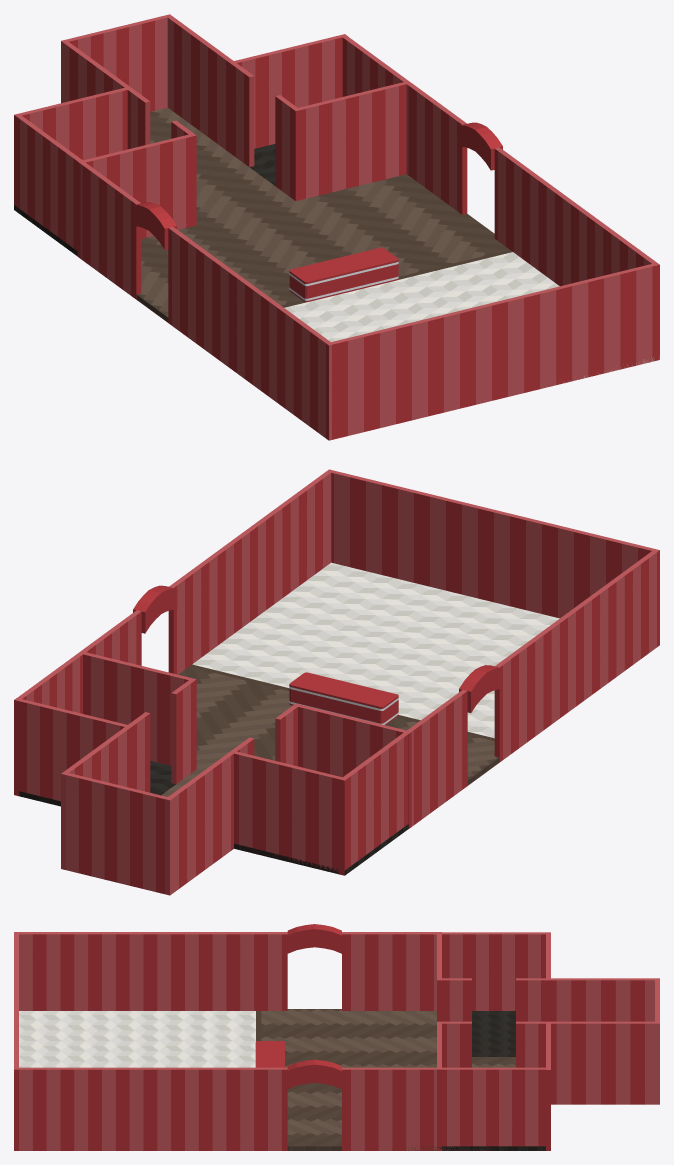
The model's file is Cinema_01.fbx.
3 renders of one model, top to bottom at view 1: azimuth 30°, elevation 25°; view 2: azimuth 150°, elevation 25°; view 3: azimuth 270°, elevation 25°, orthographic. The views are drawn at different scales.
Visible parts, largest first — view 1: Cube.033, Cube.030, Wall.002, Wall.003, Cube.021, Cube.020, Cube.028, Cube.031, Cube.023, Cube.017, Cube.024, Cube.027 (+6 smaller); view 2: Cube.033, Cube.030, Wall.002, Wall.003, Cube.027, Cube.024, Cube.025, Cube.031, Cube.021, Cube.020, Cube.028, Cube.022 (+6 smaller); view 3: Wall.003, Wall.002, Cube.033, Cube.023, Cube.019, Cube.031, Cube.025, Cube.026, Cube.022, Cube.032, Cube.029, Cube.030 (+4 smaller).
Part boxes in pixels (bbox=[...]): Cube.033: bbox=[136, 174, 659, 379]; Cube.030: bbox=[329, 262, 659, 440]; Wall.002: bbox=[80, 162, 333, 440]; Wall.003: bbox=[406, 83, 659, 360]; Cube.021: bbox=[293, 81, 410, 199]; Cube.020: bbox=[234, 34, 347, 148]; Cube.028: bbox=[77, 133, 196, 258]; Cube.031: bbox=[14, 113, 85, 250]; Cube.023: bbox=[165, 14, 235, 151]; Cube.017: bbox=[150, 107, 295, 225]; Cube.024: bbox=[66, 15, 167, 111]; Cube.027: bbox=[14, 86, 132, 206]; Cube.033: bbox=[178, 562, 559, 785]; Cube.030: bbox=[326, 469, 657, 618]; Wall.002: bbox=[407, 549, 659, 826]; Wall.003: bbox=[81, 471, 331, 674]; Cube.027: bbox=[229, 750, 347, 875]; Cube.024: bbox=[66, 773, 167, 894]; Cube.025: bbox=[165, 752, 233, 895]; Cube.031: bbox=[339, 730, 409, 875]; Cube.021: bbox=[78, 651, 196, 770]; Cube.020: bbox=[14, 698, 129, 801]; Cube.028: bbox=[293, 704, 411, 828]; Cube.022: bbox=[125, 678, 196, 792]; Wall.003: bbox=[14, 1059, 436, 1150]; Wall.002: bbox=[14, 924, 436, 1010]; Cube.033: bbox=[19, 1009, 436, 1150]; Cube.023: bbox=[546, 1021, 659, 1104]; Cube.019: bbox=[437, 1067, 545, 1150]; Cube.031: bbox=[437, 932, 550, 1010]; Cube.025: bbox=[546, 978, 659, 1021]; Cube.026: bbox=[437, 978, 545, 1021]; Cube.022: bbox=[437, 1021, 550, 1067]; Cube.032: bbox=[472, 1011, 515, 1056]; Cube.029: bbox=[255, 1041, 284, 1067]; Cube.030: bbox=[14, 934, 18, 1069].
Bounding box in the file's own units: 4090 × 1190 × 7940.
